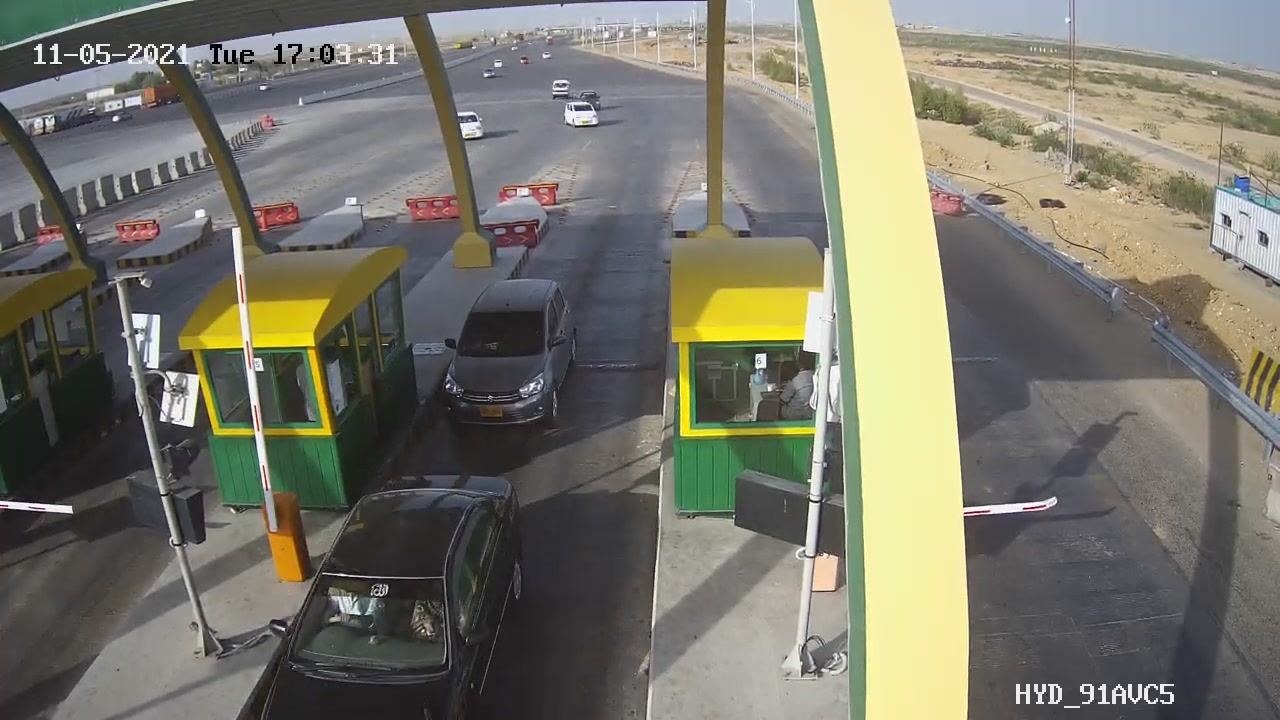F1: (417, 260, 595, 457)
